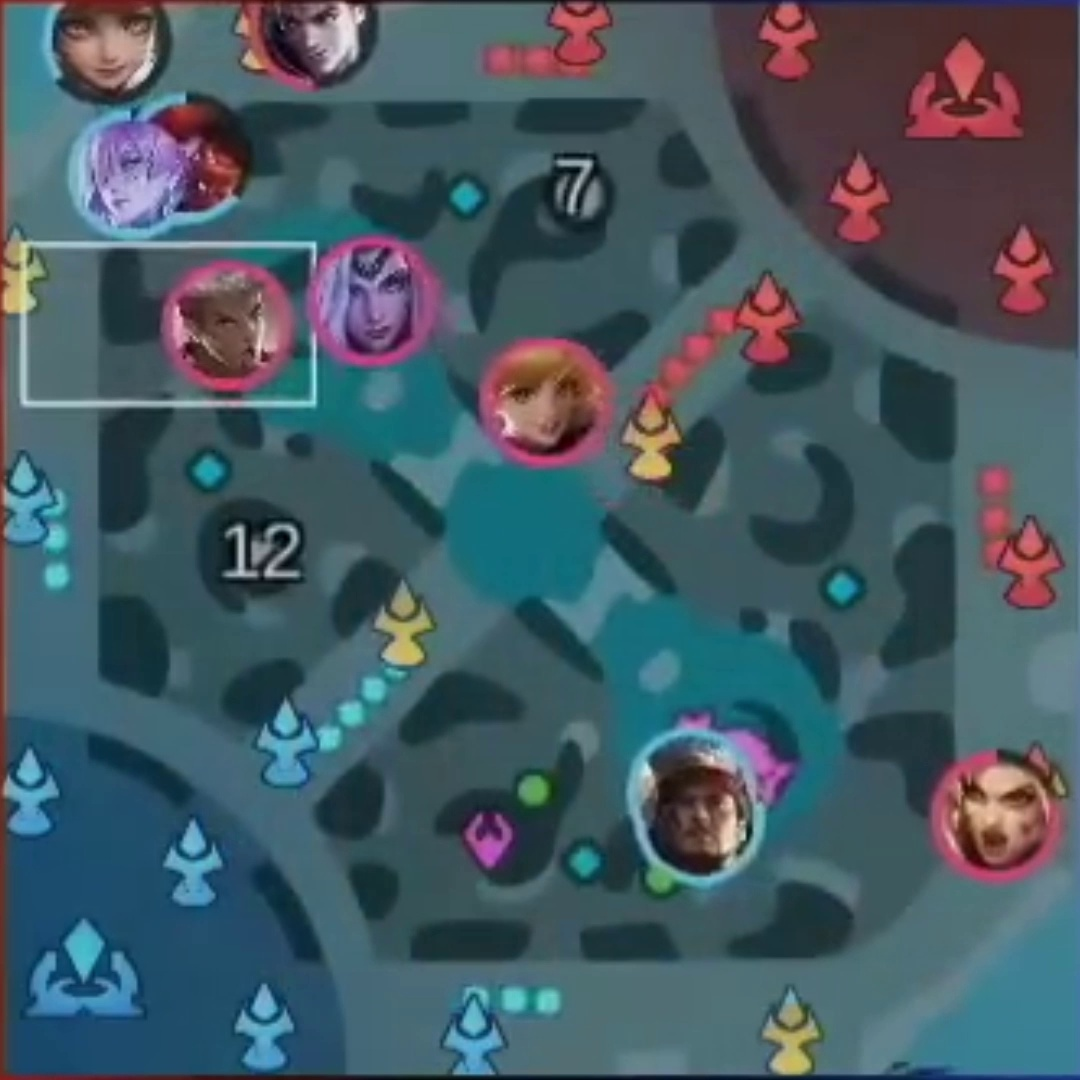Chou: (177, 275, 273, 377)
Claude: (273, 2, 378, 77)
Fanny: (502, 352, 592, 444)
Lapu-Lapu: (659, 786, 742, 859)
Masha: (956, 768, 1039, 863)
Minotaur: (180, 103, 250, 208)
Novaria: (82, 127, 175, 223)
Valentina: (325, 246, 414, 354)
Wanwan: (57, 4, 157, 84)
